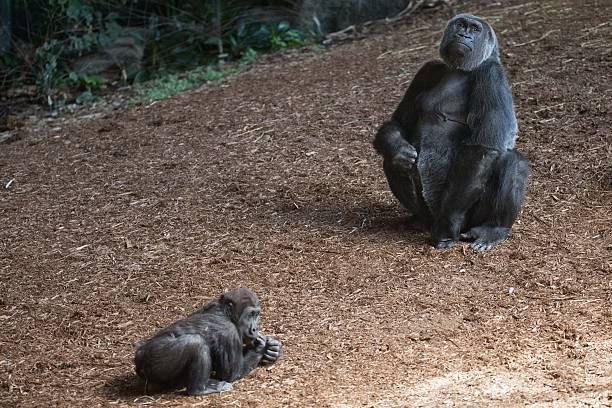gorille_Autres: (337, 0, 567, 295), (101, 269, 298, 408)
